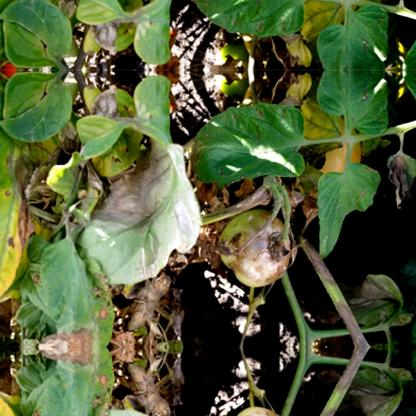Late-Blight: (6, 121, 178, 263), (194, 95, 316, 189), (194, 0, 316, 43)
